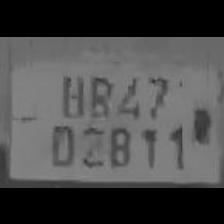1: (136, 118, 162, 168), (164, 115, 186, 169)
2: (78, 118, 104, 168)
4: (112, 67, 142, 117)
7: (140, 67, 168, 117)
8: (107, 120, 133, 168)
D: (45, 117, 77, 167)
P: (84, 67, 113, 119)
U: (55, 67, 84, 119)
